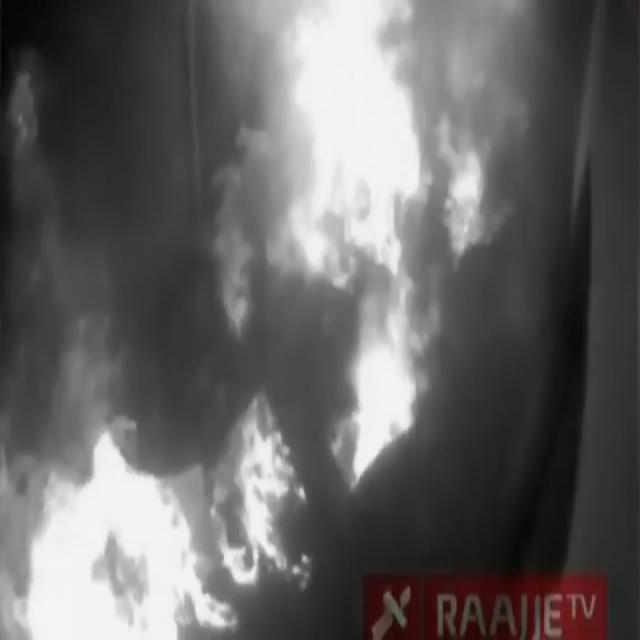Fire: (178, 2, 404, 420)
